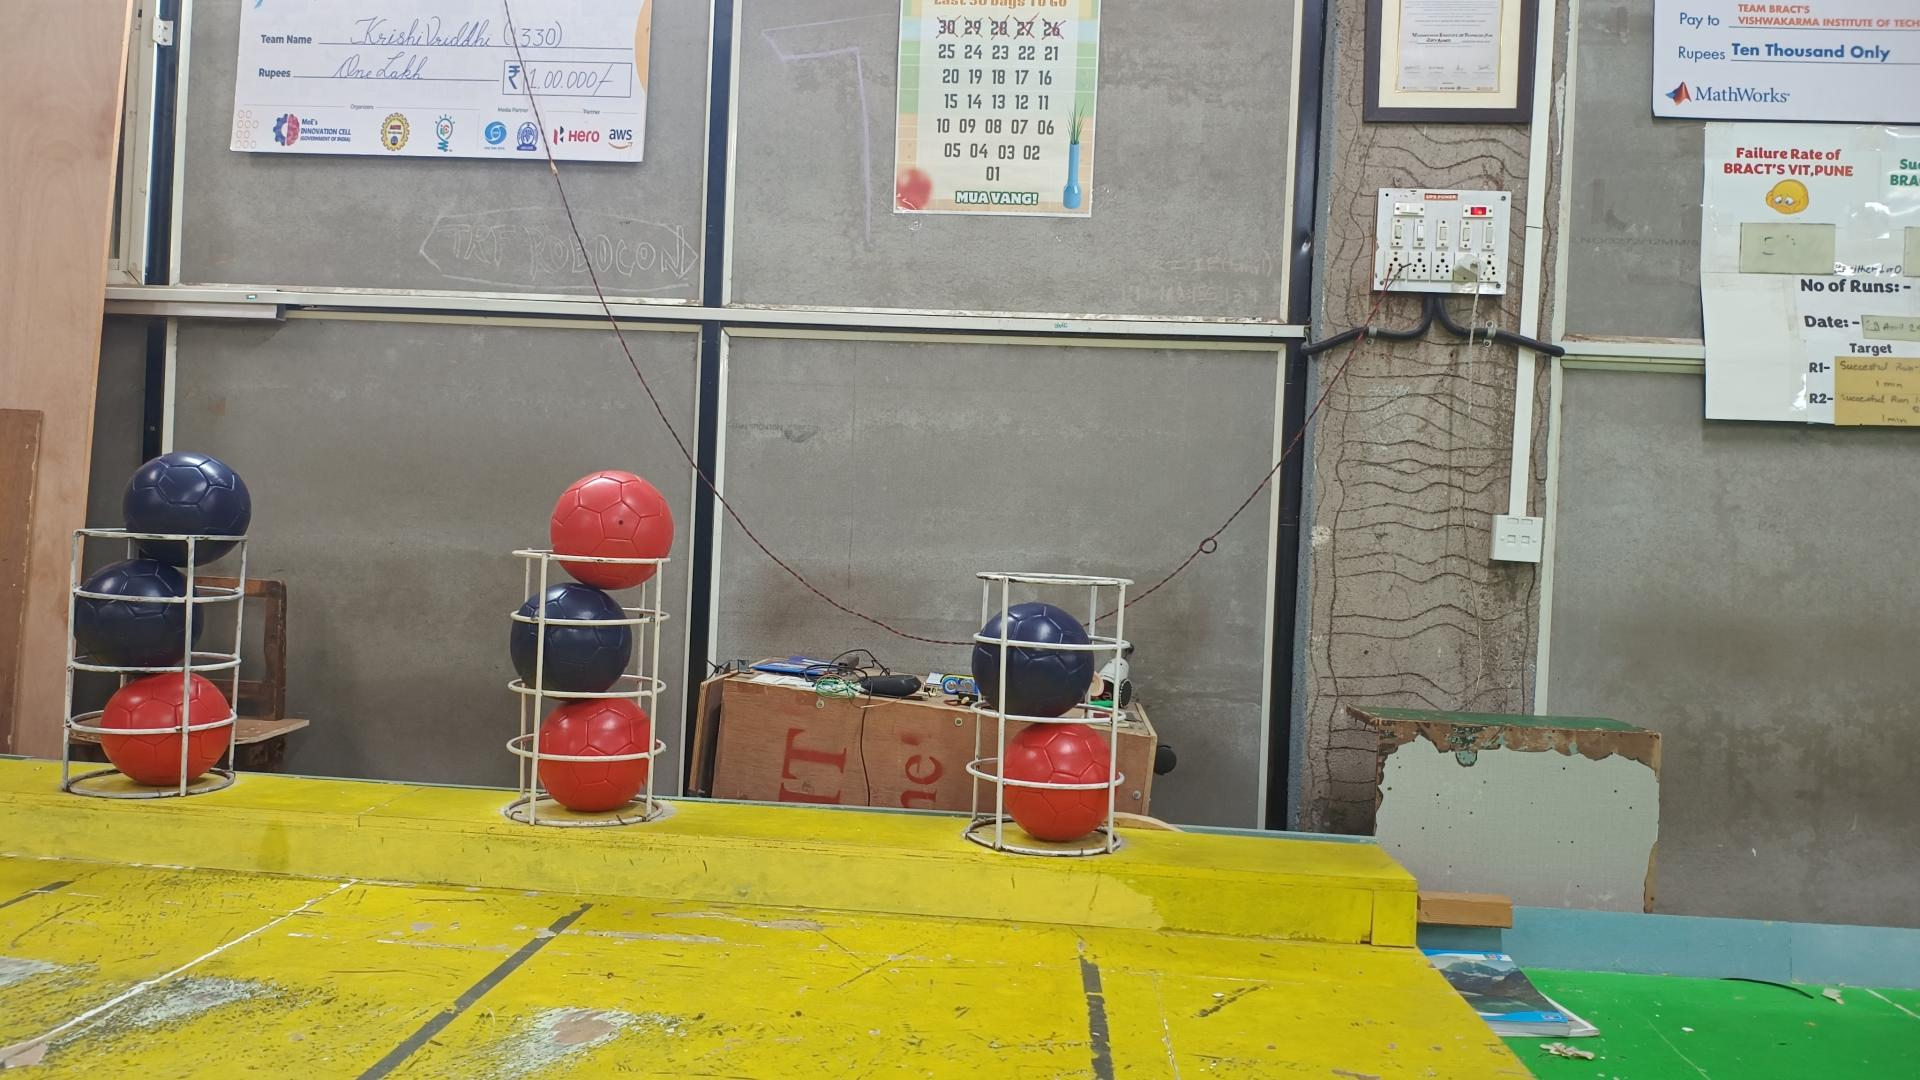dhoka: (124, 450, 252, 566), (71, 559, 203, 667), (972, 600, 1095, 716), (510, 582, 634, 694)
laale: (98, 671, 232, 787), (551, 472, 675, 588), (1001, 724, 1117, 840), (537, 698, 653, 810)
